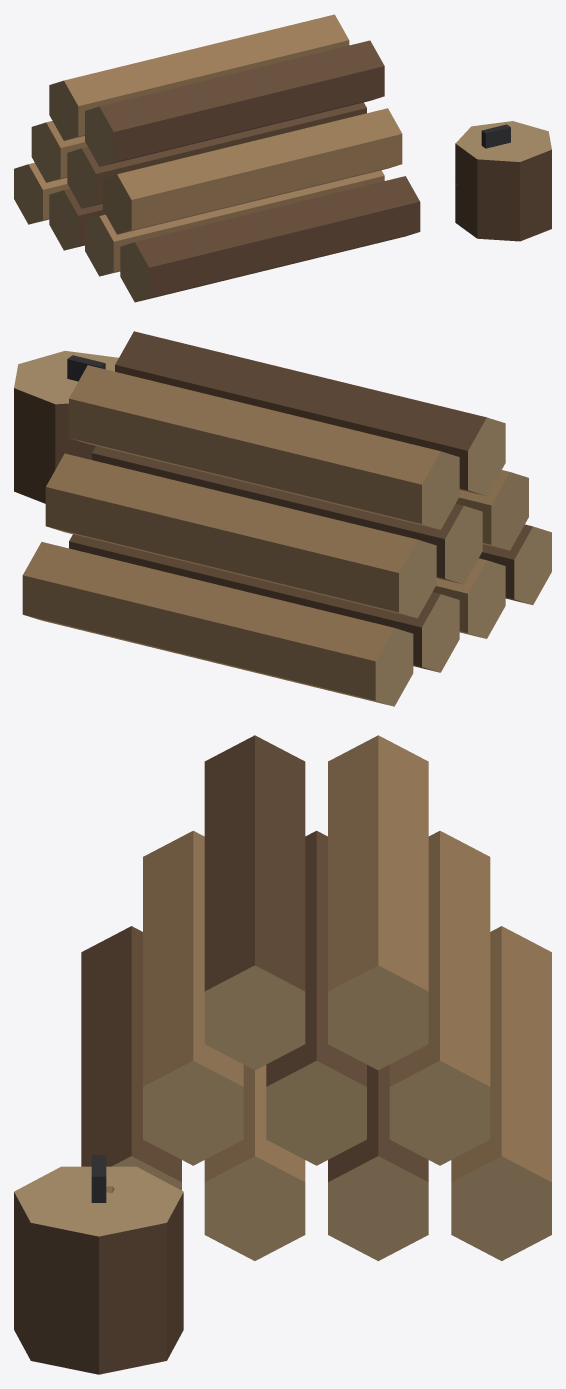
File: woodpile.glb
3 renders of one model, top to bottom at view 1: azimuth 30°, elevation 25°; view 2: azimuth 150°, elevation 25°; view 3: azimuth 270°, elevation 25°, orthographic. The views are drawn at different scales.
Visible parts, largest first — view 1: woodpile; view 2: woodpile; view 3: woodpile.
Part boxes in pixels (<box>): woodpile: <box>14,14,551,302</box>; woodpile: <box>14,331,551,706</box>; woodpile: <box>14,735,551,1374</box>.
Size of the model in its own units: 2.24 by 0.9 by 1.48.
